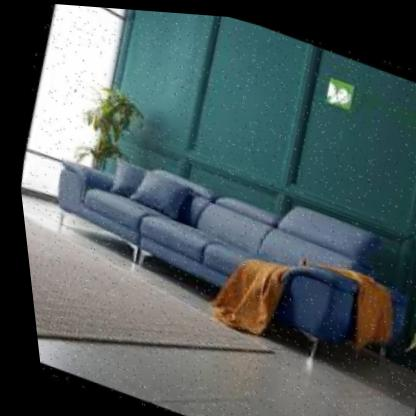Sofa: (9, 100, 416, 398)
